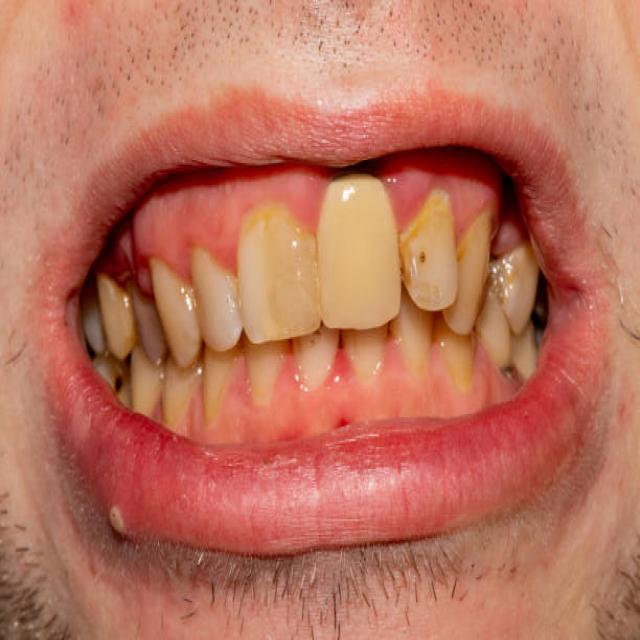caries: (492, 346, 528, 396), (104, 365, 130, 408)
